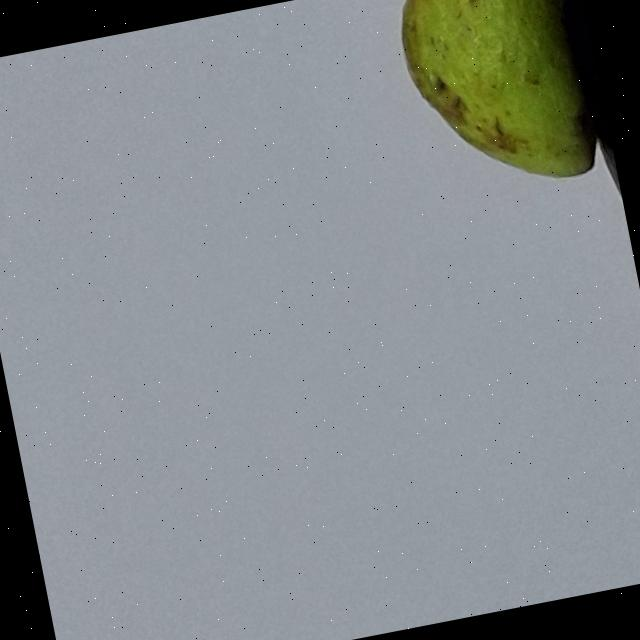mangosteen: (180, 0, 640, 640)
